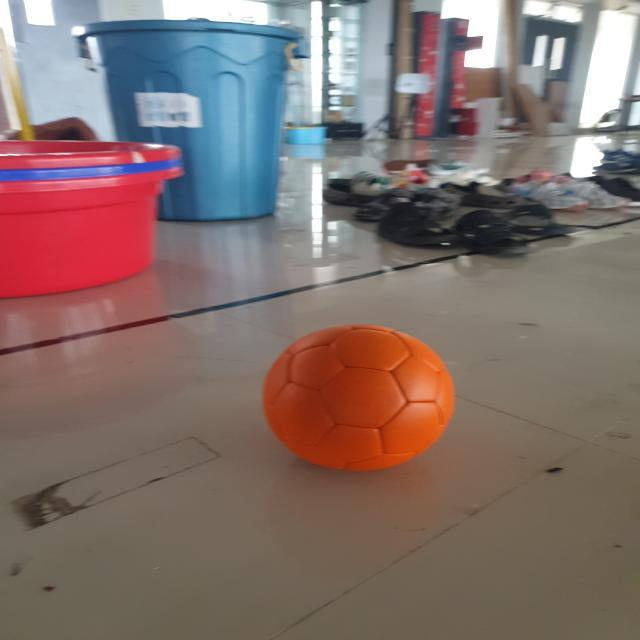bola: (265, 322, 454, 482)
